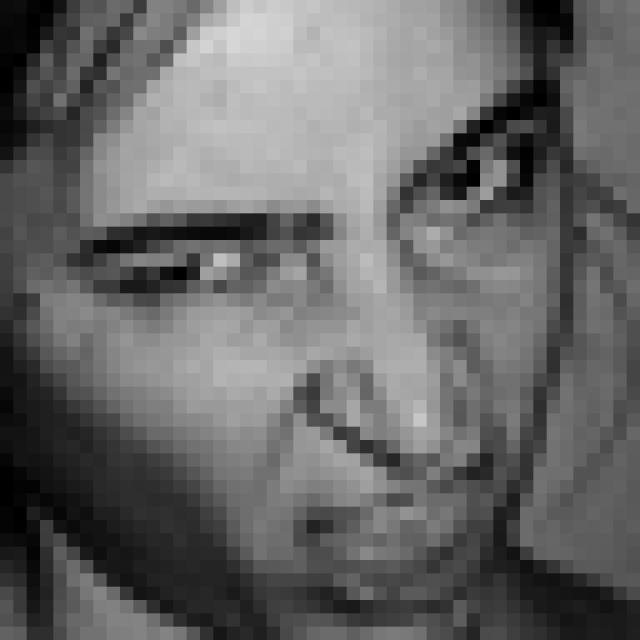disgust: (80, 85, 553, 618)
